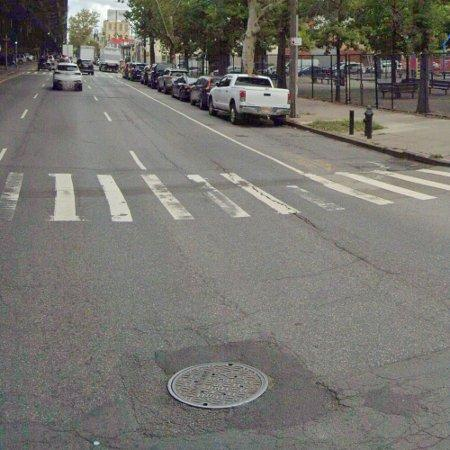crosswalk: (0, 166, 450, 224)
